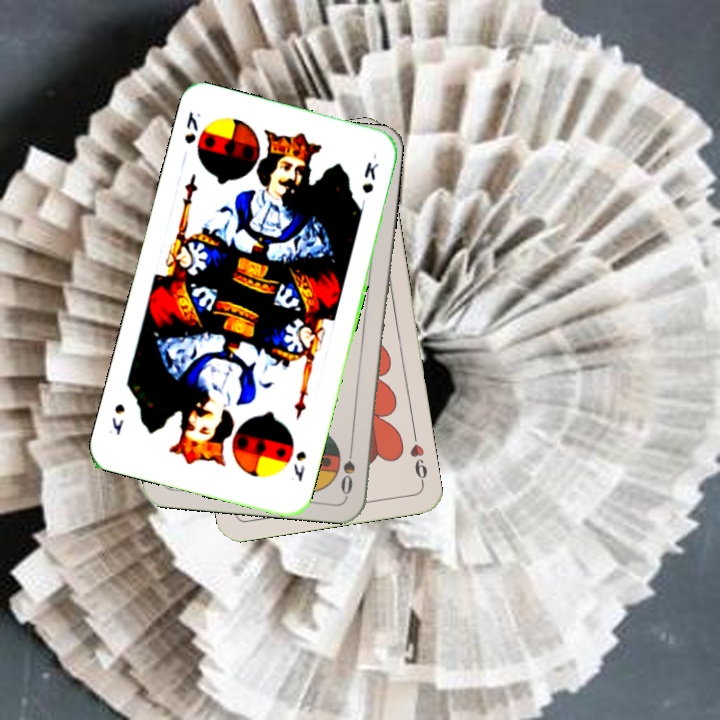H9: (406, 428, 430, 487)
SK: (180, 107, 204, 147), (289, 447, 309, 484)
SO: (336, 438, 358, 498)
